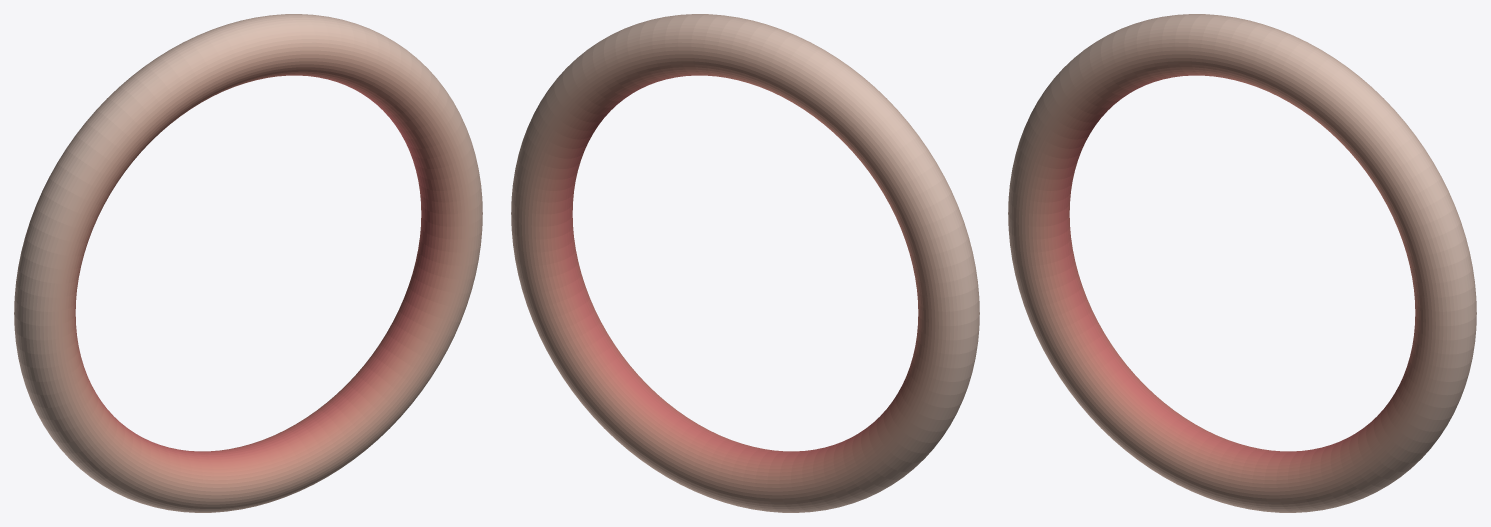
The picture shows the model from 3 angles, left to right: view 1: azimuth 30°, elevation 25°; view 2: azimuth 150°, elevation 25°; view 3: azimuth 330°, elevation 25°; orthographic projection.
Visible parts, largest first — view 1: world; view 2: world; view 3: world.
Boxes of the visible parts, x1,y1,x2,y2 form: world: (14,14,482,512); world: (511,14,979,512); world: (1008,14,1476,512).
Size of the model in its own units: 21.87 by 21.87 by 2.53.
